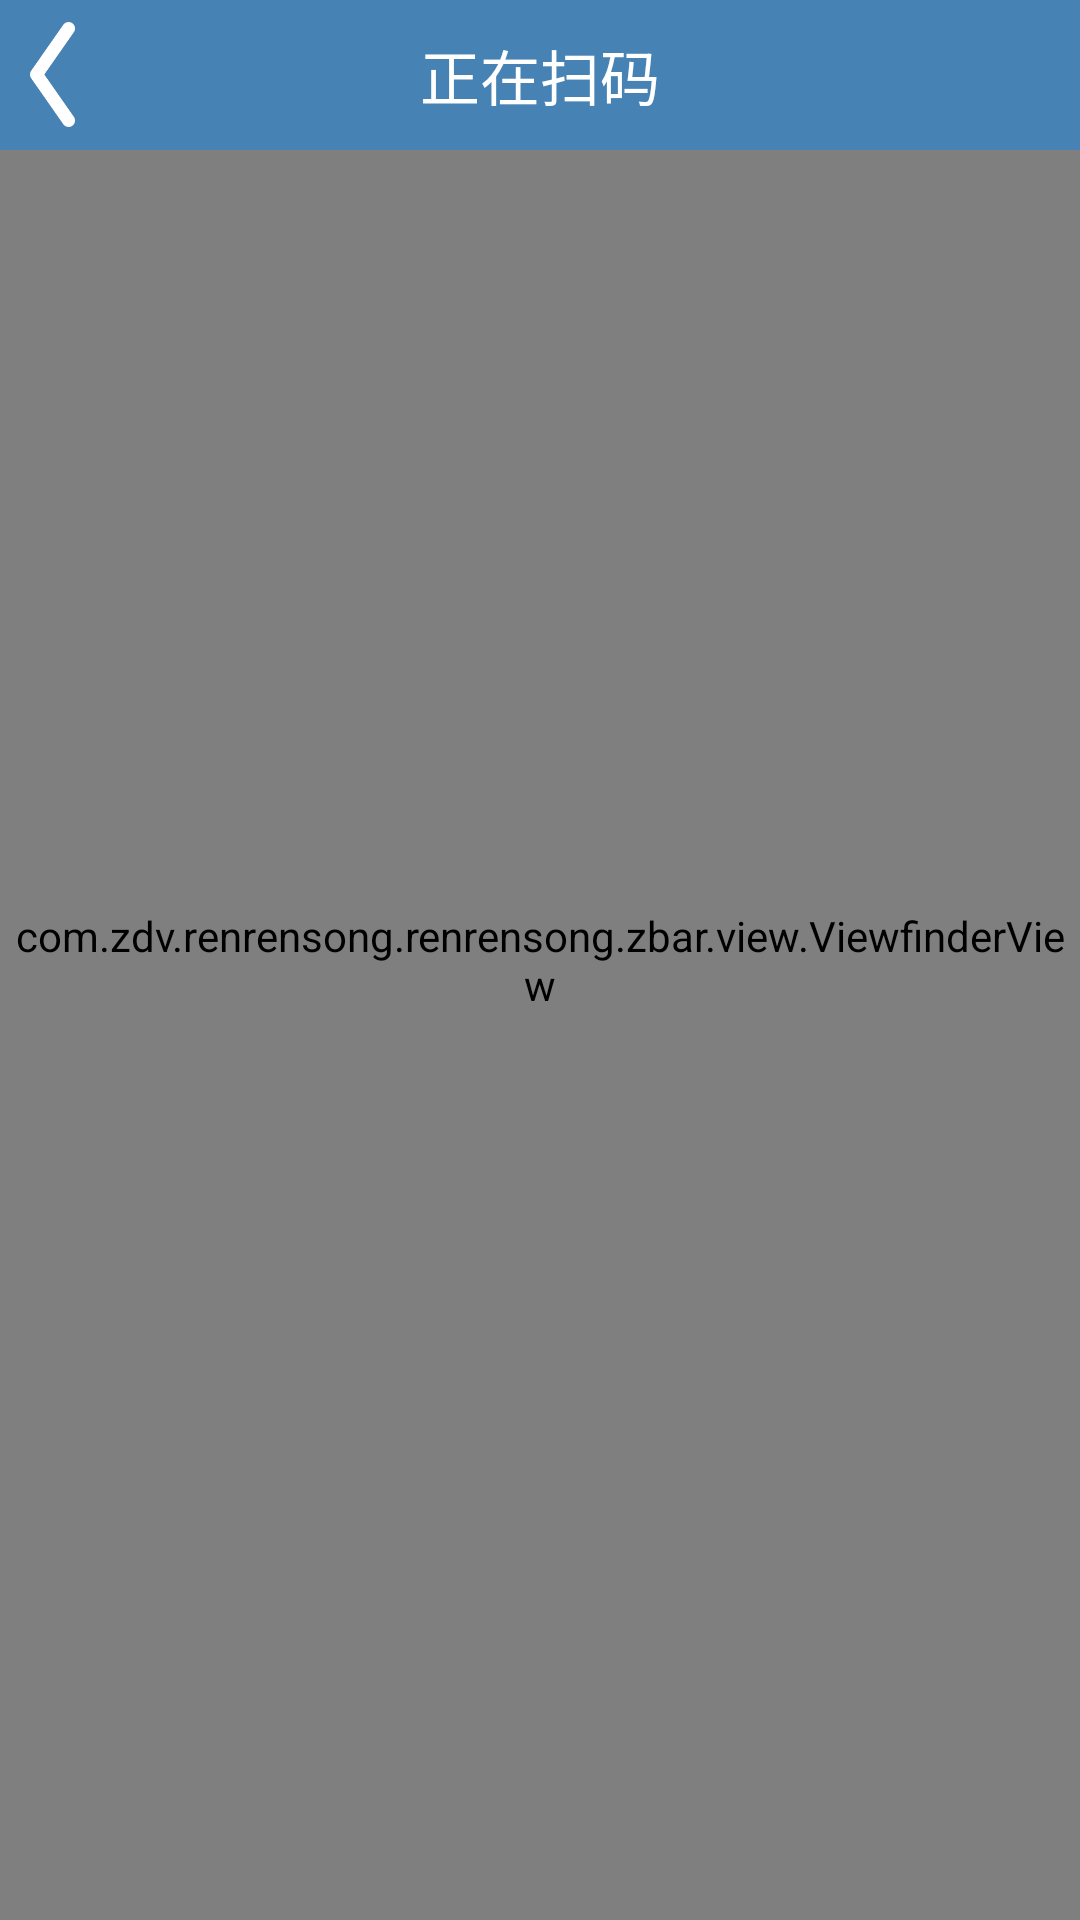

Icons on this 1080w x 1920h Android screen, each with its box as Rect(x1, y1, x2, y2):
back qcode: Rect(30, 22, 75, 127)
